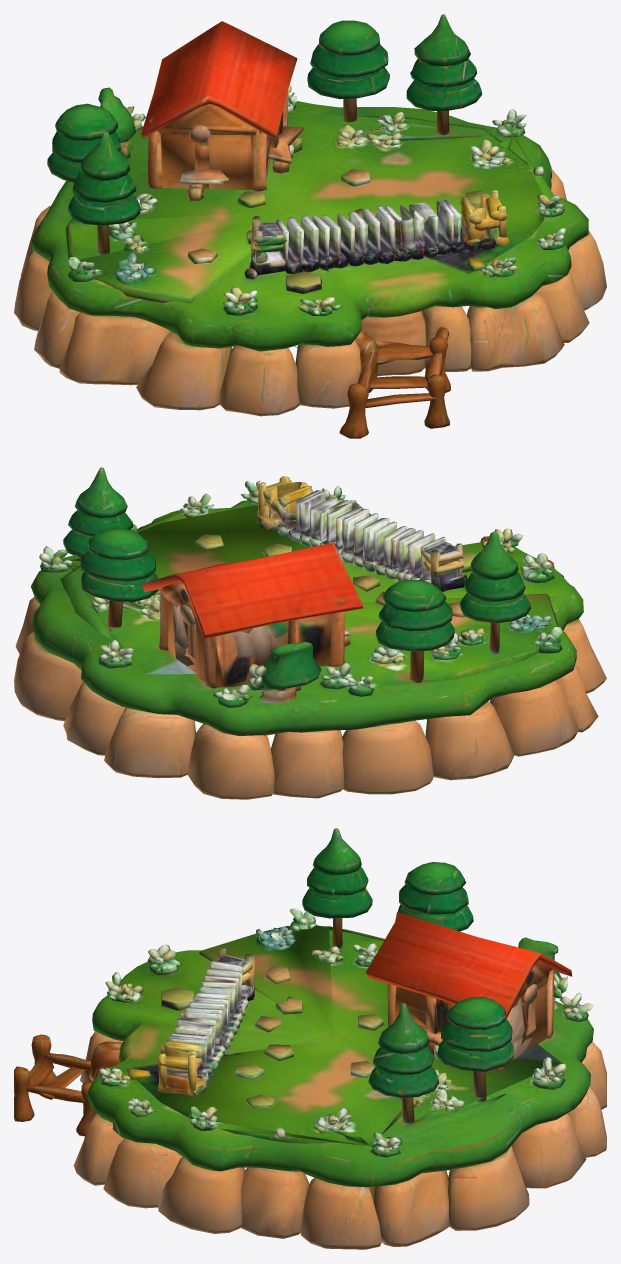
The model's file is s2_r4c1_player_island_showcase.glb.
3 renders of one model, top to bottom at view 1: azimuth 30°, elevation 25°; view 2: azimuth 150°, elevation 25°; view 3: azimuth 270°, elevation 25°, orthographic. The views are drawn at different scales.
Size of the model in its own units: 1 by 0.3912 by 1.
1 material, 1 textured.
